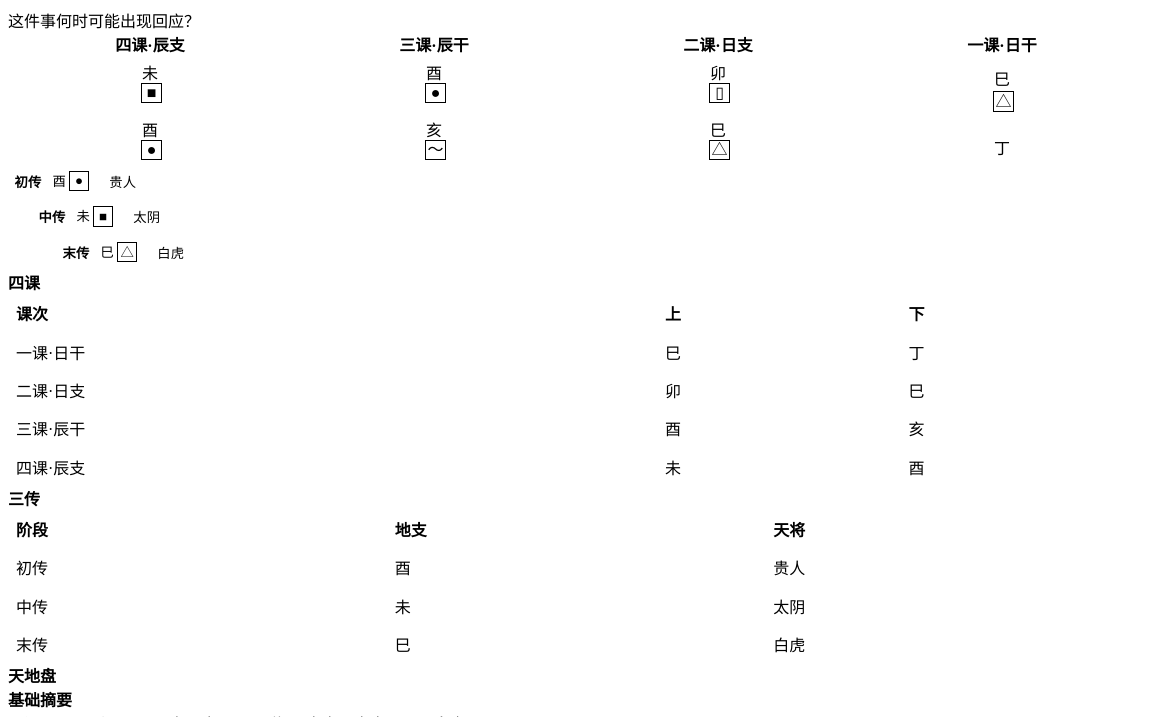
大六壬 S3 M4 天地盘 › renders a collapsed 天地盘 entry when earth_plate has twelve strings
Click the heading "天地盘": (32, 677) [8, 668, 56, 685]
(page scrolled)
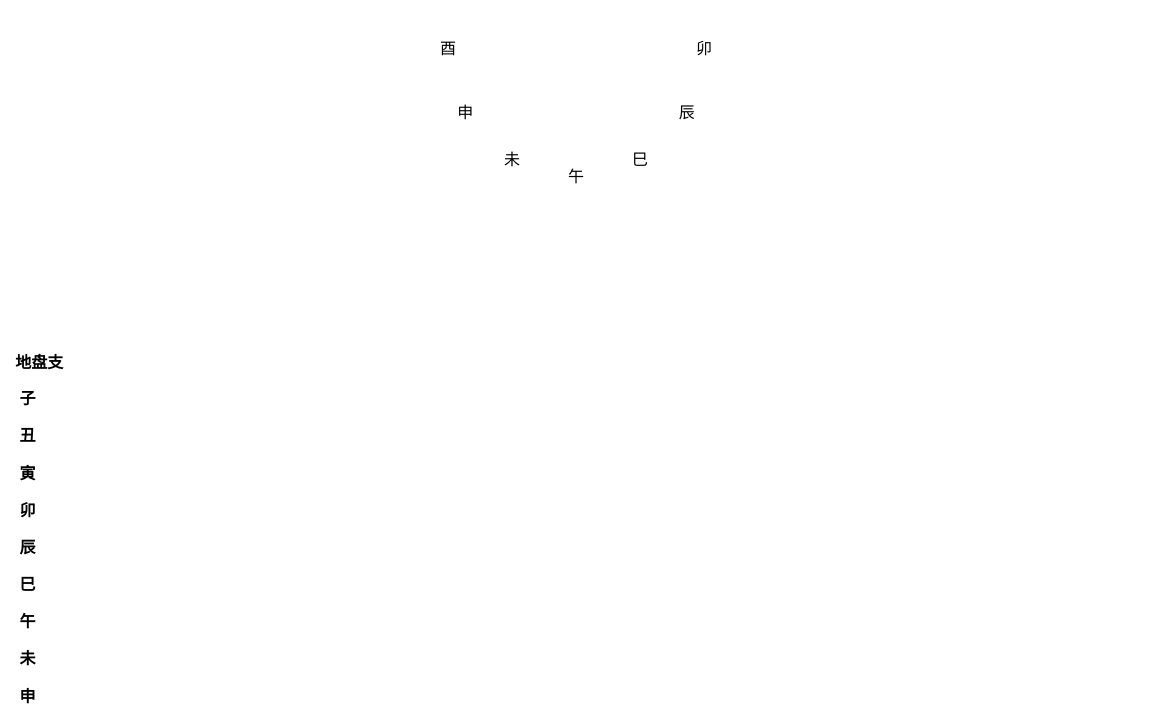
Expected: the column heading "天将" is not shown
Now the column heading "地盘支" is shown, box [8, 343, 1144, 379]
